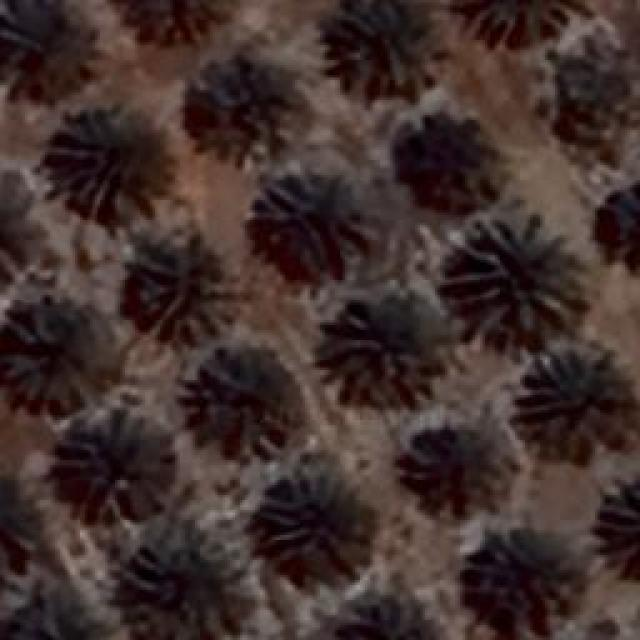PalmTree: (452, 218, 586, 332), (518, 342, 632, 462), (48, 102, 168, 216), (72, 426, 188, 526), (332, 300, 440, 402), (330, 0, 442, 95), (472, 530, 576, 632), (125, 542, 235, 636), (267, 171, 365, 269), (189, 344, 289, 438), (272, 476, 366, 572), (135, 236, 225, 336), (45, 21, 175, 88), (9, 299, 99, 389), (391, 115, 484, 200), (196, 50, 286, 135), (408, 428, 492, 506), (460, 0, 570, 48), (3, 600, 116, 640), (0, 482, 41, 582), (0, 180, 35, 294), (598, 482, 638, 580), (336, 603, 434, 640), (605, 178, 640, 270), (0, 181, 20, 288)
